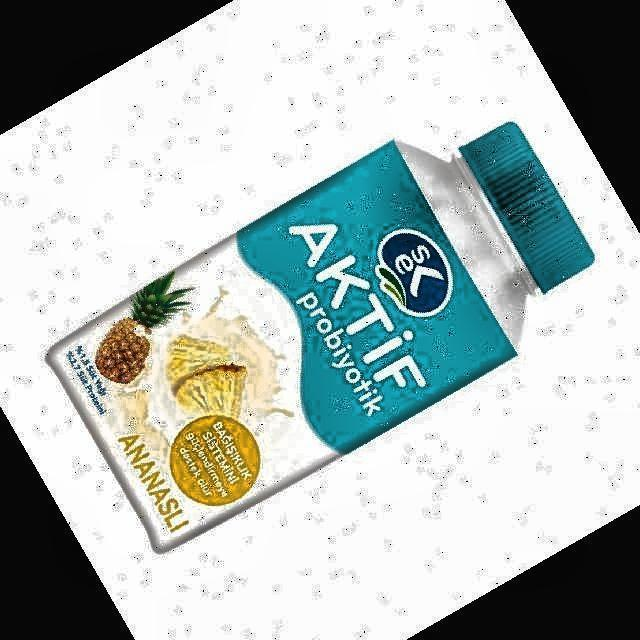plastic: (49, 122, 594, 551)
